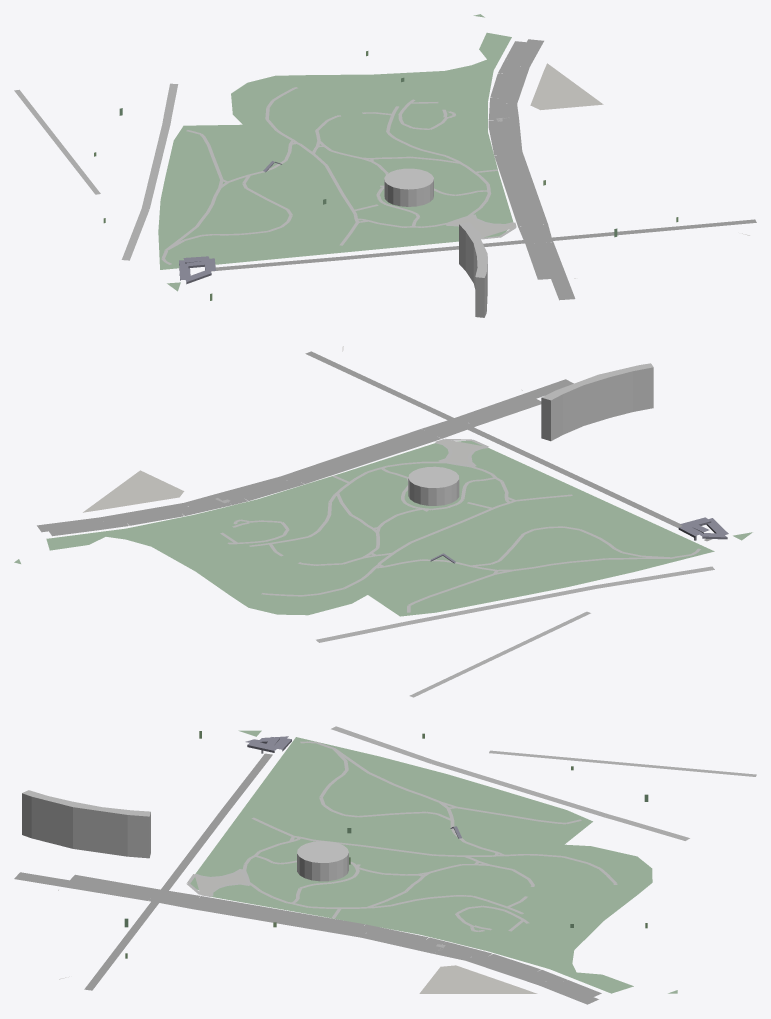
3 views of the same model, one above another, from view 1: azimuth 30°, elevation 25°; view 2: azimuth 150°, elevation 25°; view 3: azimuth 270°, elevation 25° (orthographic). The views are drawn at different scales.
Size of the model in its own units: 530 by 39.03 by 600.
